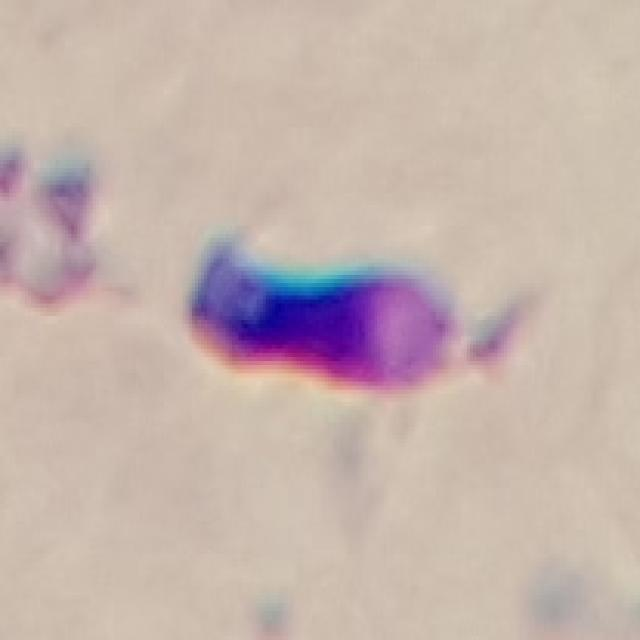non-sperm: (185, 234, 516, 406)
